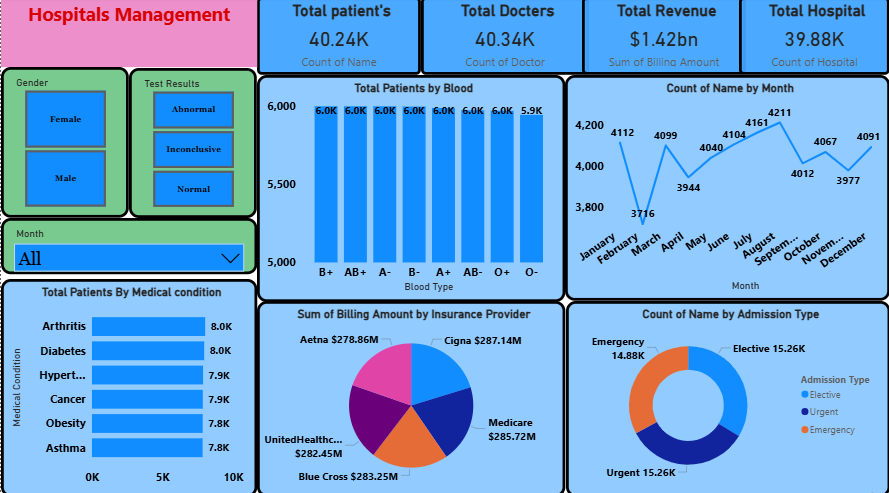

What the dashboard file says about the page in this screenshot:
{"tool":"powerbi","page":{"name":"Page 1","canvas":[1280,720],"ordinal":0},"visuals":[{"type":"card","title":"Total patient''s","fields":{"Values":["healthcare_dataset(1).Name"]},"box":[368.6,0,236.2,112.3],"z":0},{"type":"card","title":"Total Docters","fields":{"Values":["healthcare_dataset(1).Doctor"]},"box":[604.8,0,241.9,112.3],"z":1000},{"type":"card","title":"Total Revenue","fields":{"Values":["healthcare_dataset(1).Billing Amount"]},"box":[836.6,0,236.2,112.3],"z":2000},{"type":"card","title":"Total Hospital","fields":{"Values":["healthcare_dataset(1).Hospital"]},"box":[1062.7,0,217.4,112.3],"z":3000},{"type":"textbox","box":[0,0,368.6,101.4],"z":4000},{"type":"clusteredColumnChart","title":"Total Patients by Blood","fields":{"Category":["healthcare_dataset(1).Blood Type"],"Y":["healthcare_dataset(1).Name"]},"box":[368.6,112.3,443.5,326.9],"z":5000},{"type":"barChart","title":"Total Patients By Medical condition","fields":{"Category":["healthcare_dataset(1).Medical Condition"],"Y":["healthcare_dataset(1).Name"]},"box":[0,405.7,368.6,314.3],"z":6000},{"type":"lineChart","fields":{"Category":["healthcare_dataset(1).Date of Admission.Variation.Date Hierarchy.Month"],"Y":["healthcare_dataset(1).Name"]},"box":[812.2,112.3,468,325.4],"z":7000},{"type":"donutChart","fields":{"Category":["healthcare_dataset(1).Admission Type"],"Y":["healthcare_dataset(1).Name"]},"box":[813,438.1,467,281.7],"z":8000},{"type":"pieChart","fields":{"Category":["healthcare_dataset(1).Insurance Provider"],"Y":["healthcare_dataset(1).Billing Amount"]},"box":[369,438,444,282],"z":9000},{"type":"slicer","fields":{"Values":["healthcare_dataset(1).Gender"]},"box":[0,101.4,184.3,217.1],"z":10000},{"type":"slicer","fields":{"Values":["healthcare_dataset(1).Test Results"]},"box":[184.2,101.8,184.2,216.4],"z":11000},{"type":"slicer","fields":{"Values":["healthcare_dataset(1).Discharge Date.Variation.Date Hierarchy.Month"]},"box":[0,318.6,368.6,81.4],"z":12000}]}

Visuals, with their boxes in screenshot pixels (x1, y1, x2, y2), scaled from the page's 1280x720 canvas onto the 889x493 screenshot:
"Total patient''s" card: detection(256, 0, 420, 77)
"Total Docters" card: detection(420, 0, 588, 77)
"Total Revenue" card: detection(581, 0, 745, 77)
"Total Hospital" card: detection(738, 0, 888, 77)
textbox: detection(0, 0, 256, 69)
"Total Patients by Blood" clusteredColumnChart: detection(256, 77, 564, 301)
"Total Patients By Medical condition" barChart: detection(0, 278, 256, 492)
lineChart - healthcare_dataset(1).Date of Admission.Variation.Date Hierarchy.Month x healthcare_dataset(1).Name: detection(564, 77, 888, 300)
donutChart - healthcare_dataset(1).Admission Type x healthcare_dataset(1).Name: detection(565, 300, 888, 492)
pieChart - healthcare_dataset(1).Insurance Provider x healthcare_dataset(1).Billing Amount: detection(256, 300, 565, 492)
slicer - healthcare_dataset(1).Gender: detection(0, 69, 128, 218)
slicer - healthcare_dataset(1).Test Results: detection(128, 70, 256, 218)
slicer - healthcare_dataset(1).Discharge Date.Variation.Date Hierarchy.Month: detection(0, 218, 256, 274)
